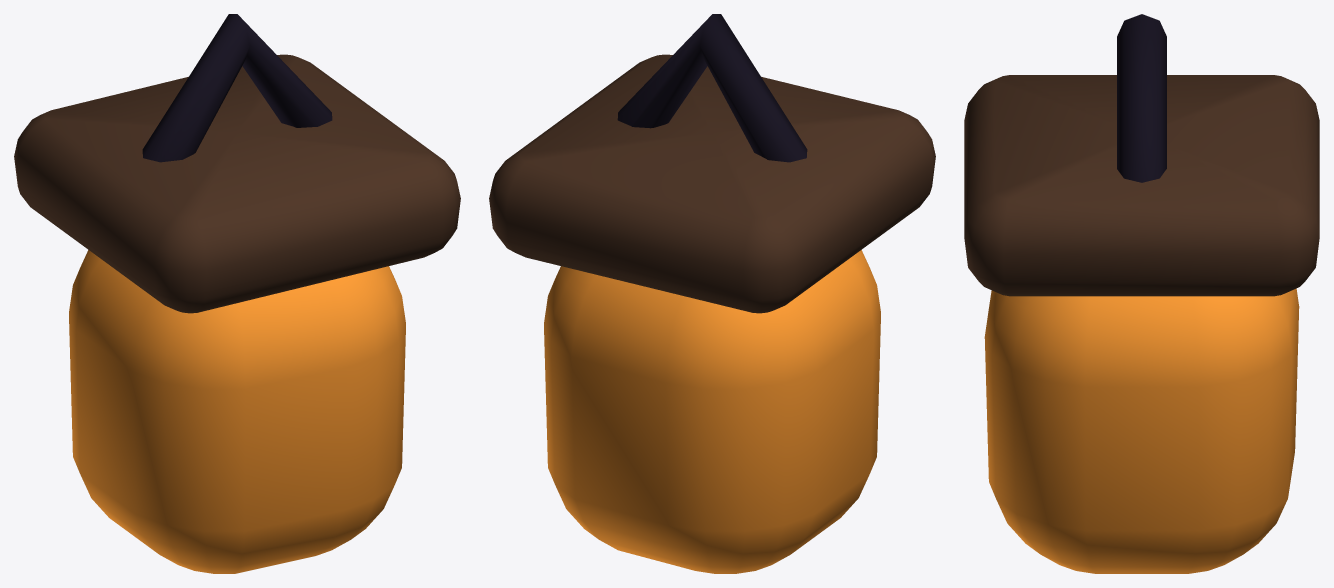
File: nemu_petghost_lantern.glb
3 views of the same model, side by side, from view 1: azimuth 30°, elevation 25°; view 2: azimuth 150°, elevation 25°; view 3: azimuth 270°, elevation 25° (orthographic).
Parts seen in each view (by area): view 1: lantern; view 2: lantern; view 3: lantern.
Part boxes in pixels (box(x1,y1,x2,y2)): lantern: box(14, 14, 460, 573); lantern: box(489, 14, 935, 573); lantern: box(964, 14, 1319, 573).
Size of the model in its own units: 0.1343 by 0.2228 by 0.1343.
Materials: 1 (1 with a texture image).
